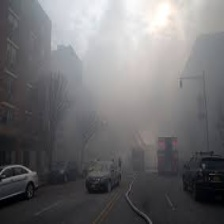smoke: (60, 17, 188, 146)
